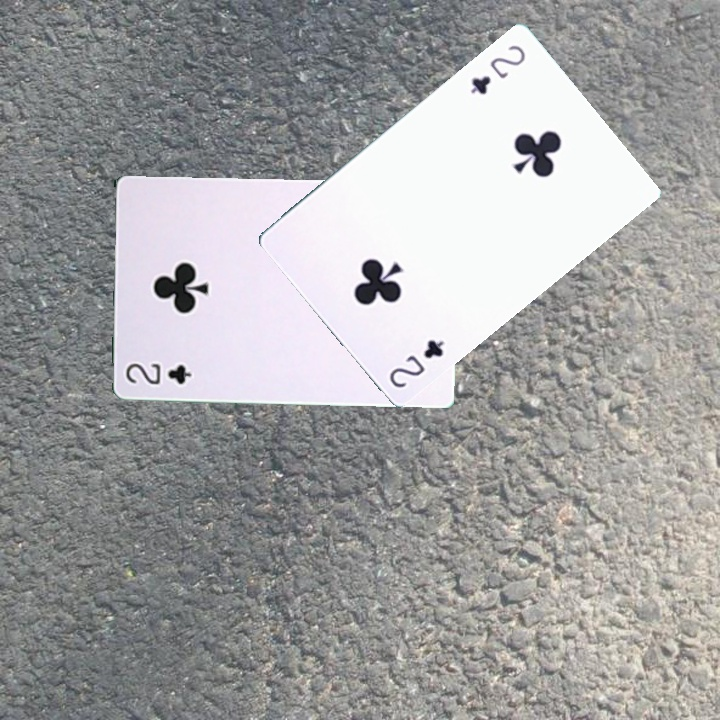2c: (466, 41, 528, 98), (385, 335, 447, 391), (122, 359, 194, 387)
